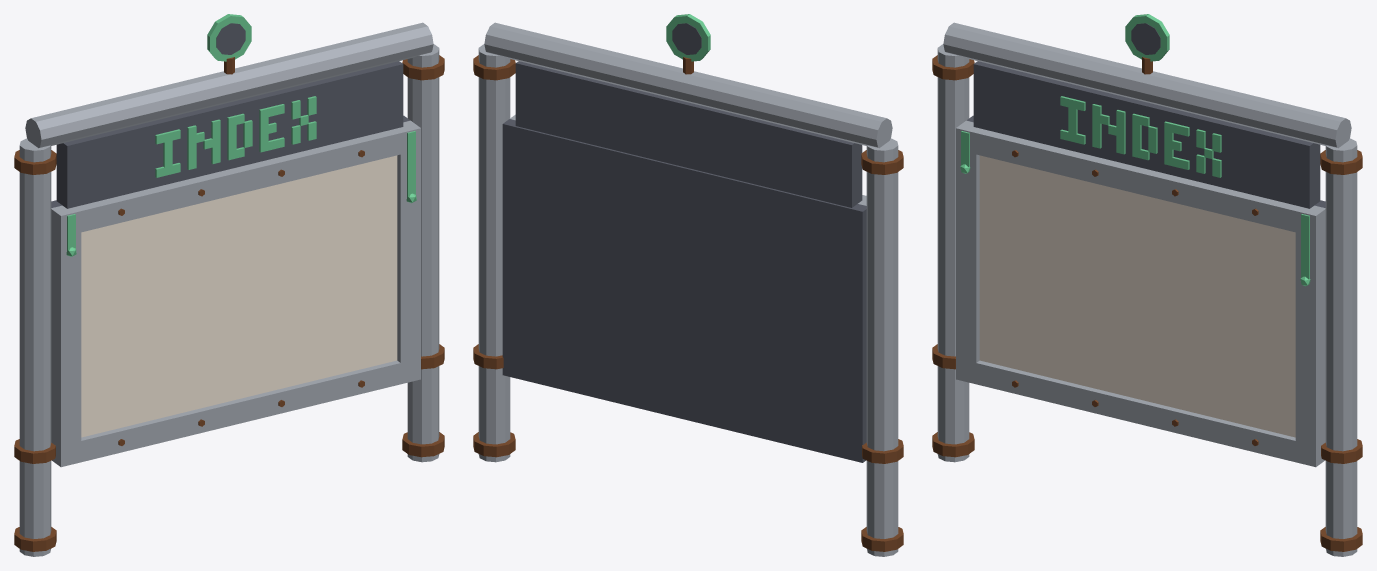
File: CatCafe_Sewer_IndexBoard.glb
3 views of the same model, side by side, from view 1: azimuth 30°, elevation 25°; view 2: azimuth 150°, elevation 25°; view 3: azimuth 330°, elevation 25° (orthographic).
Visible parts, largest first — view 1: CatCafe_Sewer_IndexBoard, CatCafe_Sewer_IndexBoard_Screen; view 2: CatCafe_Sewer_IndexBoard; view 3: CatCafe_Sewer_IndexBoard, CatCafe_Sewer_IndexBoard_Screen.
Part boxes in pixels (left/top/right/bottom): CatCafe_Sewer_IndexBoard: left=14, top=14, right=444, bottom=556; CatCafe_Sewer_IndexBoard_Screen: left=81, top=155, right=397, bottom=437; CatCafe_Sewer_IndexBoard: left=473, top=14, right=903, bottom=556; CatCafe_Sewer_IndexBoard: left=932, top=14, right=1362, bottom=556; CatCafe_Sewer_IndexBoard_Screen: left=979, top=155, right=1295, bottom=437.
Bounding box in the file's own units: 10.59 × 11.65 × 1.1.
1 material, 1 textured.
